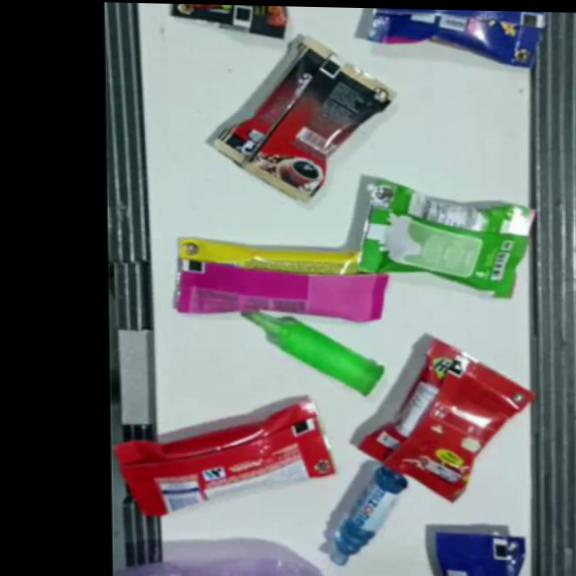Plastik: (211, 33, 397, 205), (355, 335, 534, 505), (110, 395, 335, 521), (356, 177, 535, 300), (175, 237, 389, 322), (240, 311, 387, 398), (366, 8, 546, 69), (327, 464, 408, 569), (114, 556, 335, 576), (435, 530, 527, 576), (170, 4, 287, 39)
